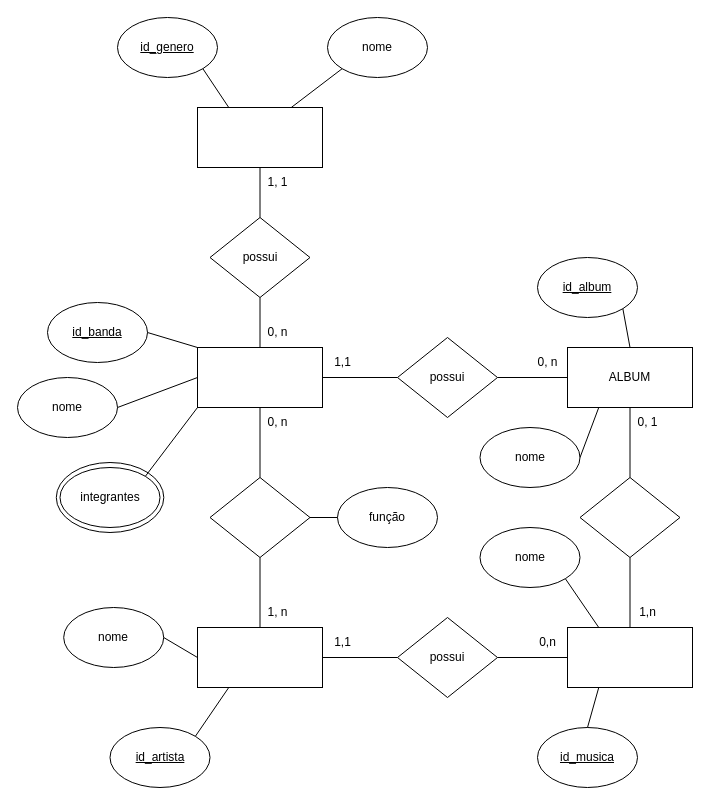
This 710x805 diagram has some shape labels left out. The centre of each missing label's shape, as x and y in pixels:
"ARTISTA" goes at [259,657].
"BANDA" goes at [259,377].
"GENERO" goes at [259,137].
"MUSICA" goes at [629,657].
"participa" goes at [259,517].
"tem" goes at [629,517].
